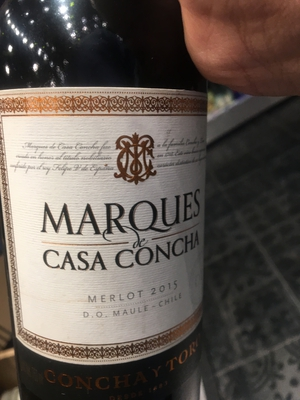marques de casa concha merlot: (1, 57, 225, 397)
